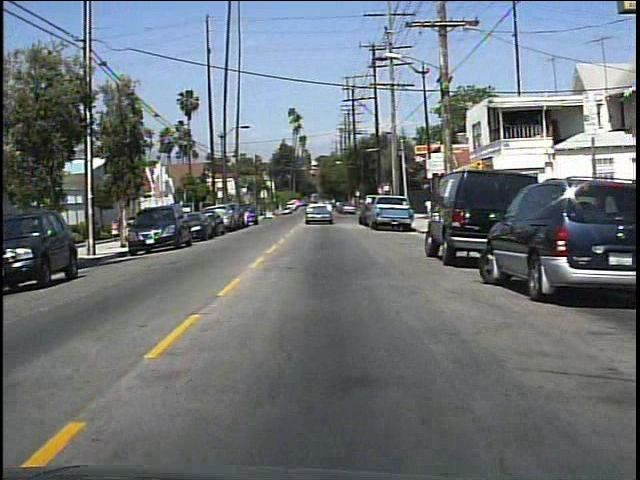person: (420, 193, 436, 221)
